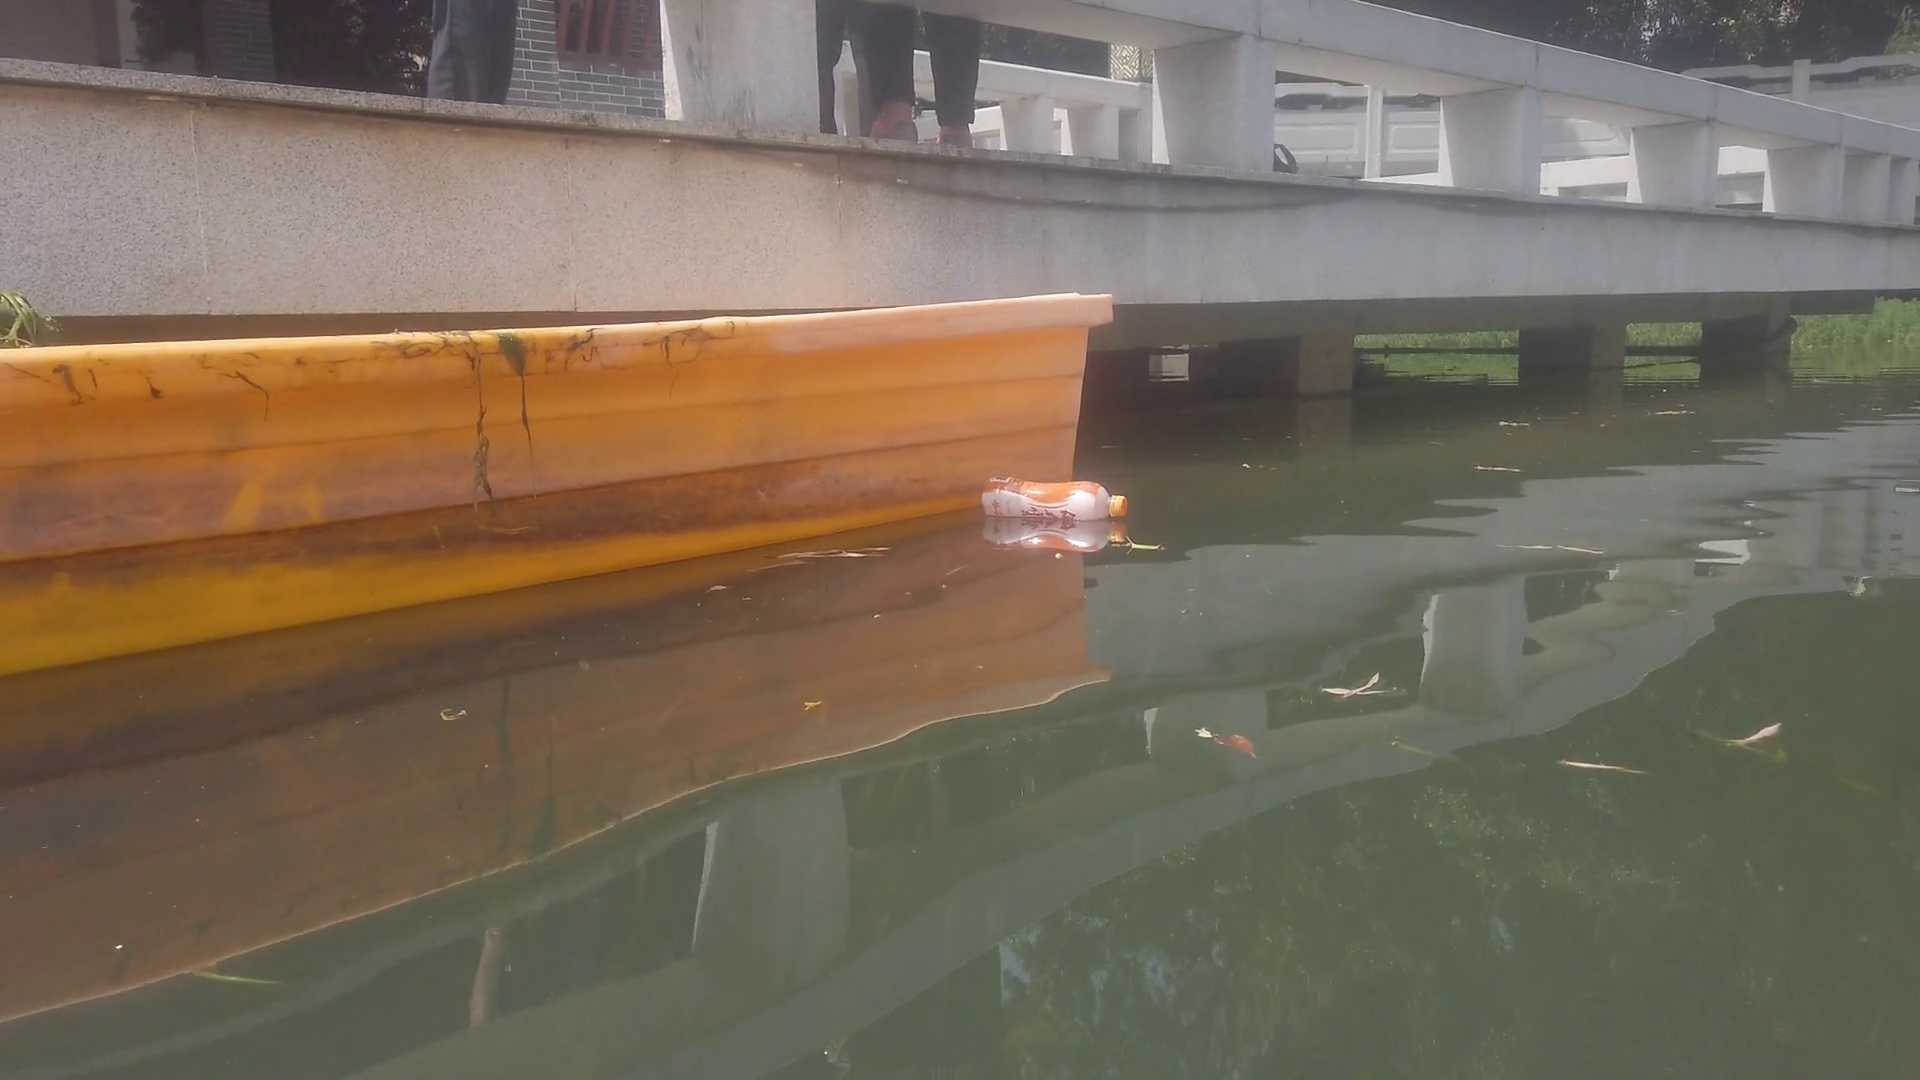bottle: (982, 473, 1127, 524)
